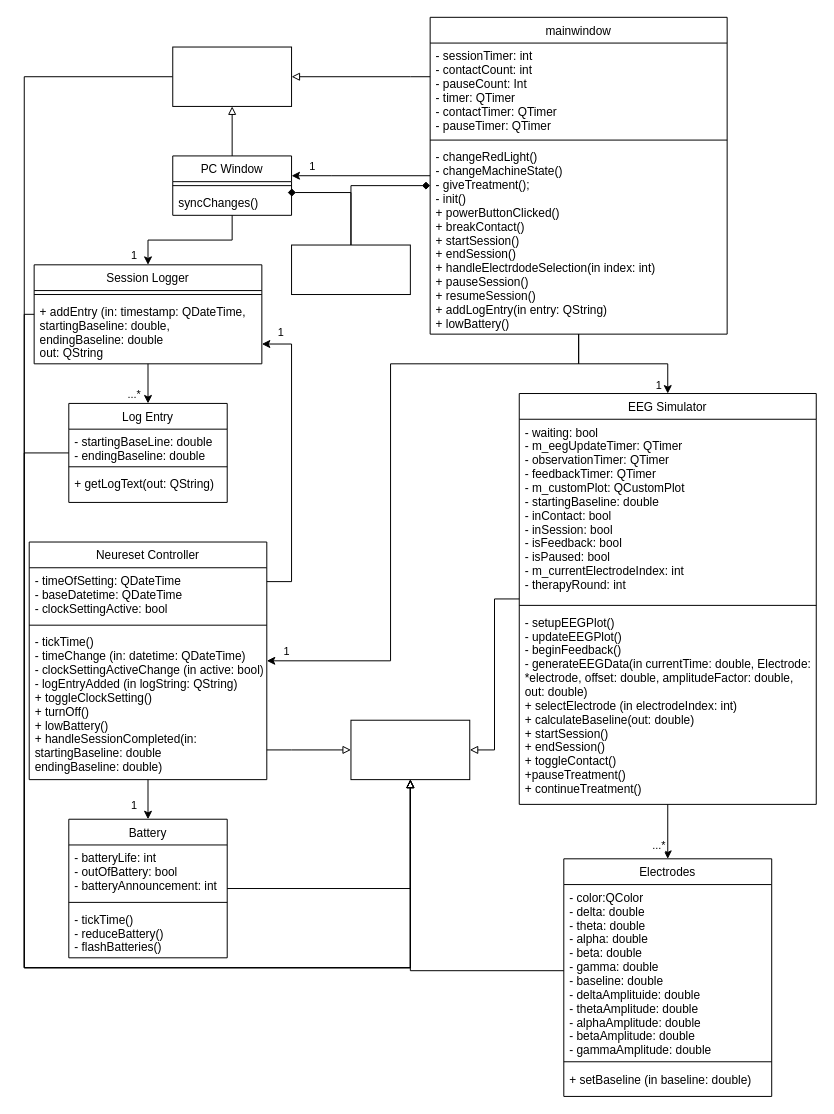
The diagram is 834 pixels wide and 1114 high, and some of its shapes have lost their labels. Each missing label, with the centre of its shape:
QMainWindow: point (232, 76)
QObject: point (410, 749)
UI: point (350, 269)
